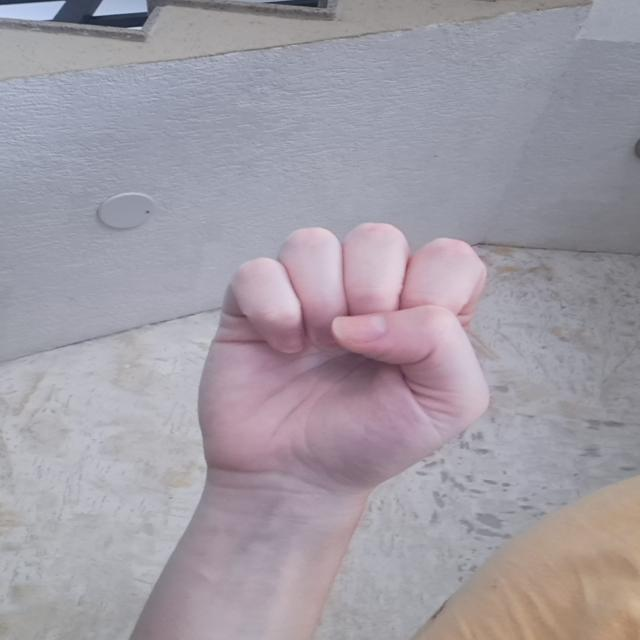S: (186, 216, 502, 492)
